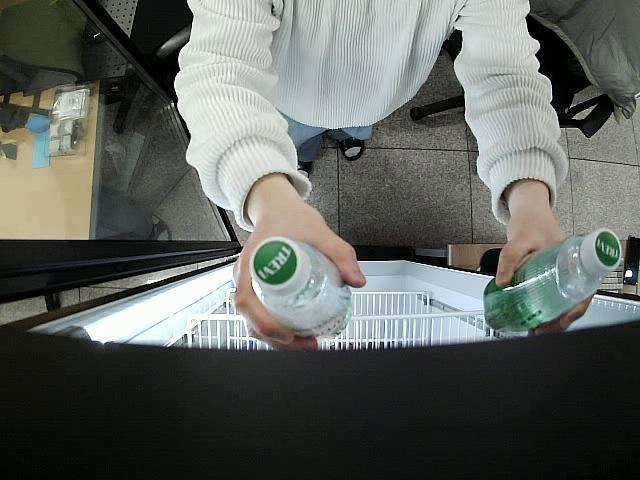18_trevi: (480, 228, 623, 331), (250, 235, 352, 335)
